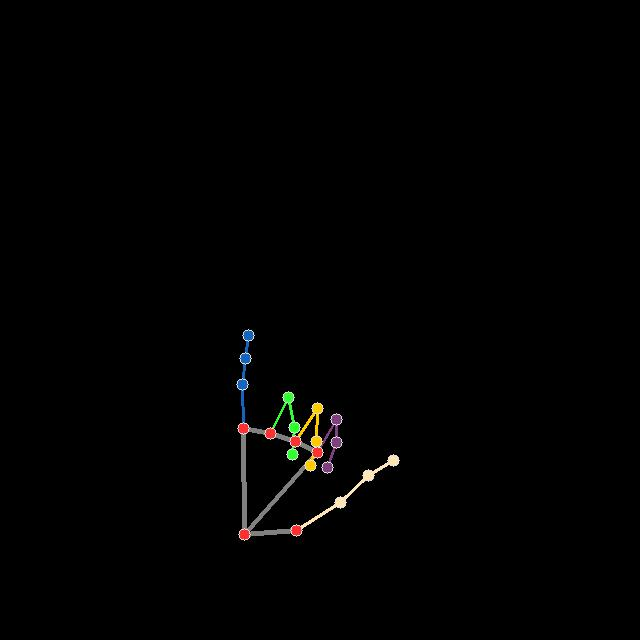skr: (234, 327, 400, 541)
